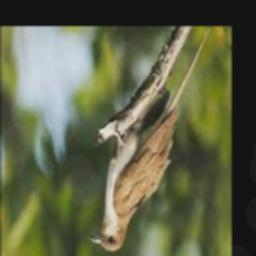Cuckoo: (89, 29, 208, 252)
